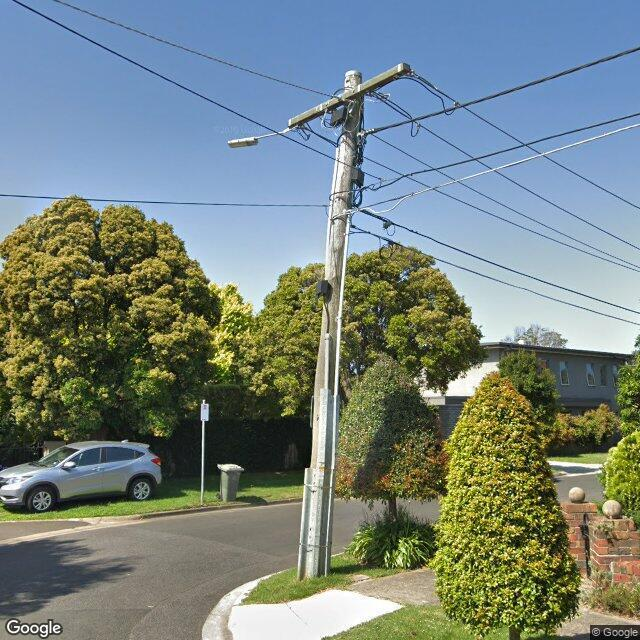crossarm: (288, 62, 462, 141)
streetlight: (227, 127, 294, 149)
timber-pole: (297, 69, 363, 581)
